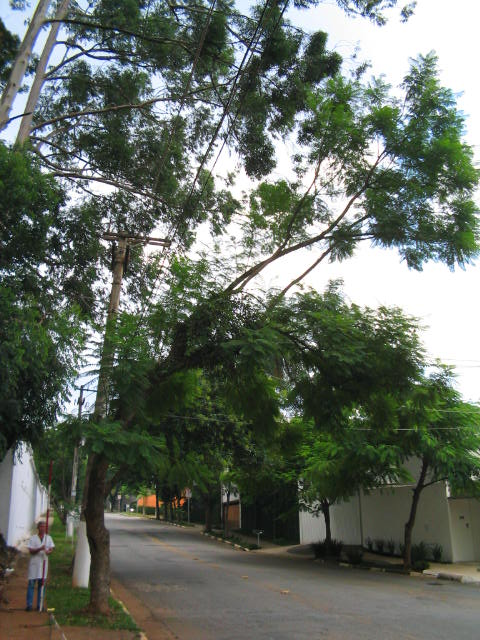crown: (71, 53, 474, 504)
stem: (67, 487, 132, 614)
stick: (35, 460, 56, 612)
tree: (67, 51, 476, 614)
